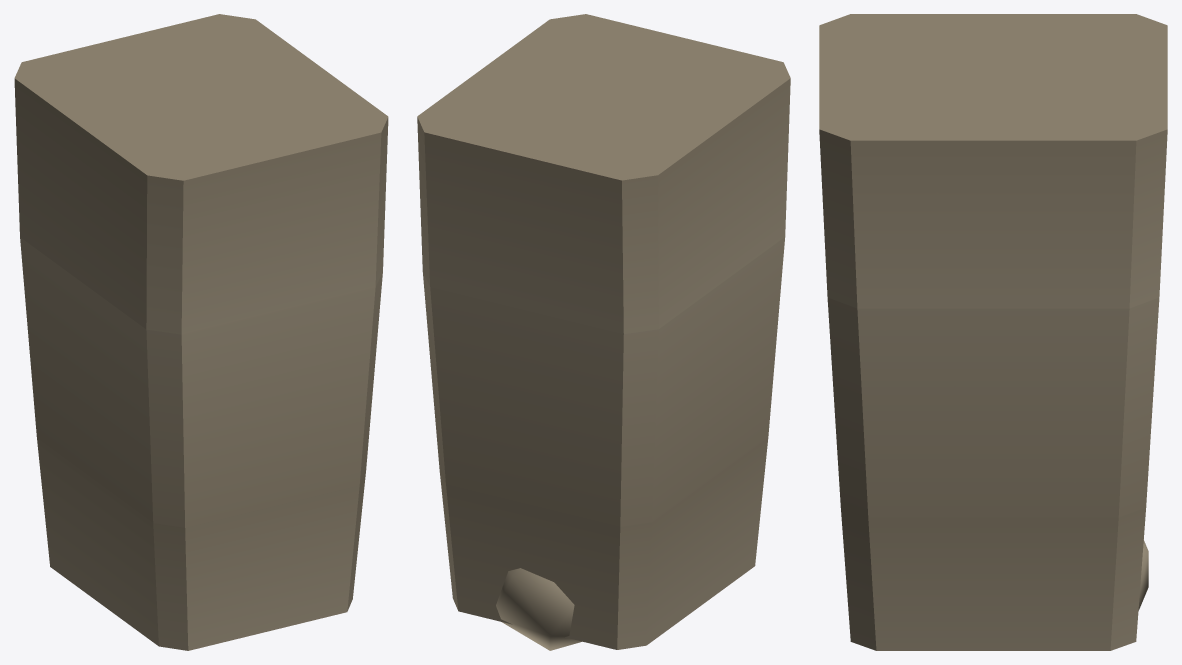
3 views of the same model, side by side, from view 1: azimuth 30°, elevation 25°; view 2: azimuth 150°, elevation 25°; view 3: azimuth 270°, elevation 25° (orthographic). The views are drawn at different scales.
Parts seen in each view (by area): view 1: padded_leggings; view 2: padded_leggings; view 3: padded_leggings.
Boxes of the visible parts, x1,y1,x2,y2 form: padded_leggings: [14, 14, 388, 650]; padded_leggings: [417, 14, 790, 650]; padded_leggings: [819, 14, 1167, 650].
Size of the model in its own units: 0.1767 by 0.3605 by 0.2055.
